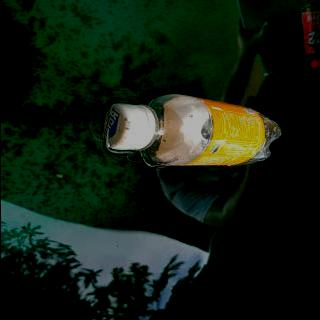bottle: (100, 93, 282, 166)
